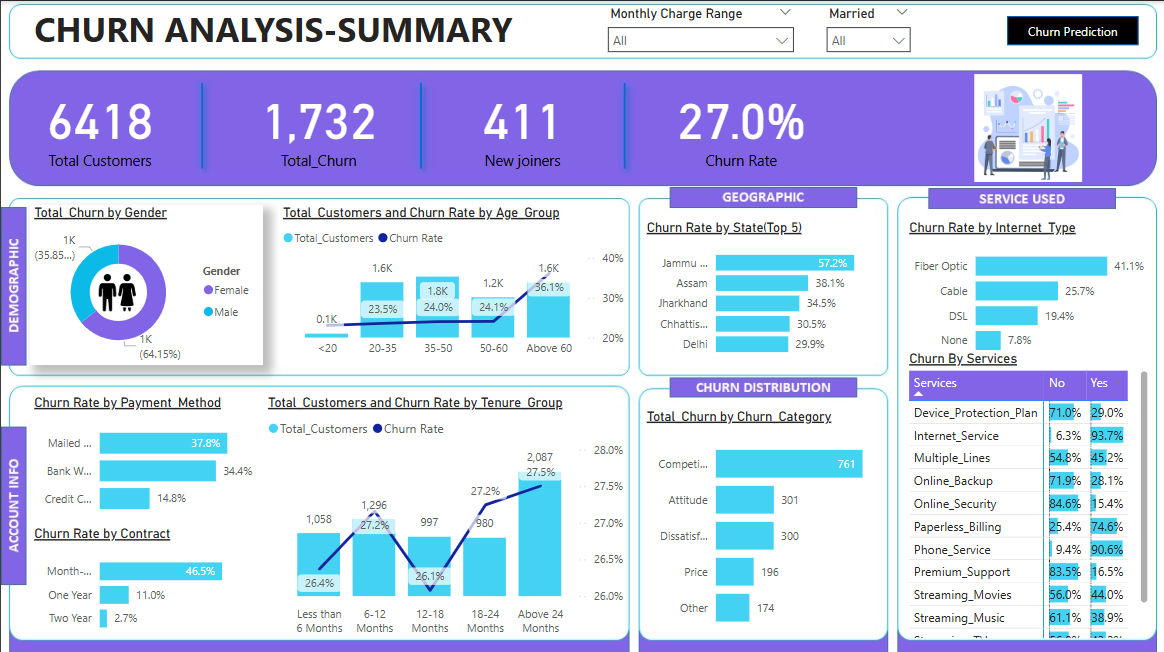

What the dashboard file says about the page in this screenshot:
{"tool":"powerbi","page":{"name":"Summary","canvas":[1280,720],"ordinal":0},"visuals":[{"type":"donutChart","fields":{"Category":["prod_Churn.Gender"],"Y":["Table_Measures.Total_Churn"]},"box":[32,224,256,176],"z":0},{"type":"lineStackedColumnComboChart","fields":{"Category":["Mapping_Age group.Age_Group"],"Y":["Table_Measures.Total_Customers"],"Y2":["Table_Measures.Churn Rate"]},"box":[304,224,384,176],"z":1000},{"type":"clusteredBarChart","fields":{"Category":["prod_Churn.Payment_Method"],"Y":["Table_Measures.Churn Rate"]},"box":[32,432,256,144],"z":2000},{"type":"clusteredBarChart","fields":{"Category":["prod_Churn.Contract"],"Y":["Table_Measures.Churn Rate"]},"box":[32,576,256,128],"z":3000},{"type":"lineStackedColumnComboChart","fields":{"Y":["Table_Measures.Total_Customers"],"Y2":["Table_Measures.Churn Rate"],"Category":["Contract_Mapping.Tenure_Group"]},"box":[288,432,400,272],"z":4000},{"type":"barChart","fields":{"Category":["prod_Churn.State"],"Y":["Table_Measures.Churn Rate"]},"box":[704,240,272,160],"z":5000},{"type":"clusteredBarChart","fields":{"Category":["prod_Churn.Churn_Category"],"Y":["Table_Measures.Total_Churn"]},"box":[704,448,272,256],"z":6000},{"type":"pivotTable","title":"Churn By Services","fields":{"Rows":["prod_services.Services"],"Columns":["prod_services.Status"],"Values":["Sum(prod_services.CHURN)"]},"box":[992,384,272,320],"z":7000},{"type":"slicer","fields":{"Values":["prod_services.Monthly Charge Status"]},"box":[656,0,224,64],"z":8000},{"type":"clusteredBarChart","fields":{"Category":["prod_Churn.Internet_Type"],"Y":["Table_Measures.Churn Rate"]},"box":[992,240,272,160],"z":9000},{"type":"slicer","fields":{"Values":["prod_Churn.Married"]},"box":[896,0,112,64],"z":10000},{"type":"card","fields":{"Values":["Count(prod_Churn.Customer_ID)"]},"box":[28.8,81.5,160,112],"z":11000},{"type":"card","fields":{"Values":["Table_Measures.Total_Churn"]},"box":[268.8,81.5,160,112],"z":12000},{"type":"card","fields":{"Values":["Table_Measures.New joiners"]},"box":[492.8,81.5,160,112],"z":13000},{"type":"card","fields":{"Values":["Table_Measures.Churn Rate"]},"box":[732.8,81.5,160,112],"z":14000},{"type":"shape","box":[172.8,81.5,96,112],"z":15000},{"type":"shape","box":[412.8,81.5,96,112],"z":16000},{"type":"shape","box":[636.8,81.5,96,112],"z":17000},{"type":"textbox","box":[32,0,688,80],"z":18000},{"type":"image","box":[80,288,96,64],"z":19000},{"type":"image","box":[976,75,304,128],"z":20000},{"type":"shape","box":[1104,16,144,32],"z":21000}]}

Visuals, with their boxes in screenshot pixels (x1, y1, x2, y2), scaled from the page's 1280x720 canvas onto the 1164x652 screenshot:
donutChart - prod_Churn.Gender x Table_Measures.Total_Churn: bbox=[29, 203, 262, 362]
lineStackedColumnComboChart - Mapping_Age group.Age_Group x Table_Measures.Total_Customers: bbox=[276, 203, 626, 362]
clusteredBarChart - prod_Churn.Payment_Method x Table_Measures.Churn Rate: bbox=[29, 391, 262, 522]
clusteredBarChart - prod_Churn.Contract x Table_Measures.Churn Rate: bbox=[29, 522, 262, 638]
lineStackedColumnComboChart - Table_Measures.Total_Customers x Table_Measures.Churn Rate: bbox=[262, 391, 626, 638]
barChart - prod_Churn.State x Table_Measures.Churn Rate: bbox=[640, 217, 888, 362]
clusteredBarChart - prod_Churn.Churn_Category x Table_Measures.Total_Churn: bbox=[640, 406, 888, 638]
"Churn By Services" pivotTable: bbox=[902, 348, 1149, 638]
slicer - prod_services.Monthly Charge Status: bbox=[597, 0, 800, 58]
clusteredBarChart - prod_Churn.Internet_Type x Table_Measures.Churn Rate: bbox=[902, 217, 1149, 362]
slicer - prod_Churn.Married: bbox=[815, 0, 917, 58]
card - Count(prod_Churn.Customer_ID): bbox=[26, 74, 172, 175]
card - Table_Measures.Total_Churn: bbox=[244, 74, 390, 175]
card - Table_Measures.New joiners: bbox=[448, 74, 594, 175]
card - Table_Measures.Churn Rate: bbox=[666, 74, 812, 175]
shape: bbox=[157, 74, 244, 175]
shape: bbox=[375, 74, 463, 175]
shape: bbox=[579, 74, 666, 175]
textbox: bbox=[29, 0, 655, 72]
image: bbox=[73, 261, 160, 319]
image: bbox=[888, 68, 1163, 184]
shape: bbox=[1004, 14, 1135, 43]
